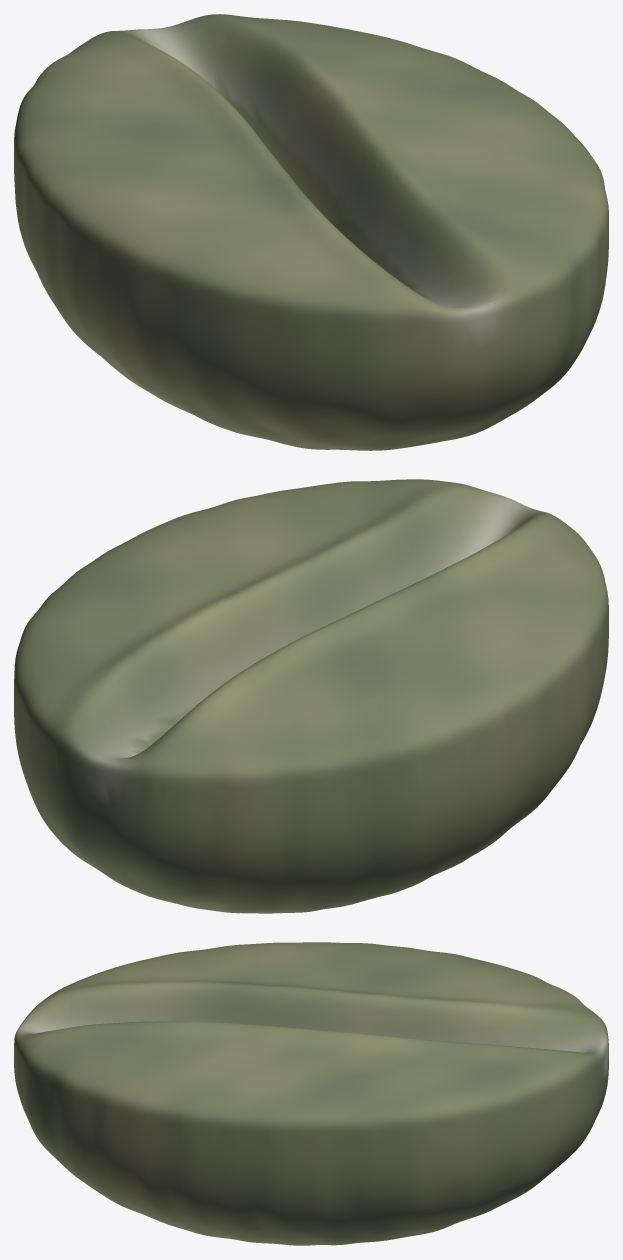
Rendered from bean.glb.
3 views of the same model, one above another, from view 1: azimuth 30°, elevation 25°; view 2: azimuth 150°, elevation 25°; view 3: azimuth 270°, elevation 25° (orthographic). The views are drawn at different scales.
Parts seen in each view (by area): view 1: CoffeeBean; view 2: CoffeeBean; view 3: CoffeeBean.
Boxes of the visible parts, box(x1,y1,x2,y2) form: CoffeeBean: box(14, 14, 608, 450); CoffeeBean: box(14, 479, 608, 913); CoffeeBean: box(14, 942, 608, 1245).
Bounding box in the file's own units: 1.9 × 1.01 × 2.64.
